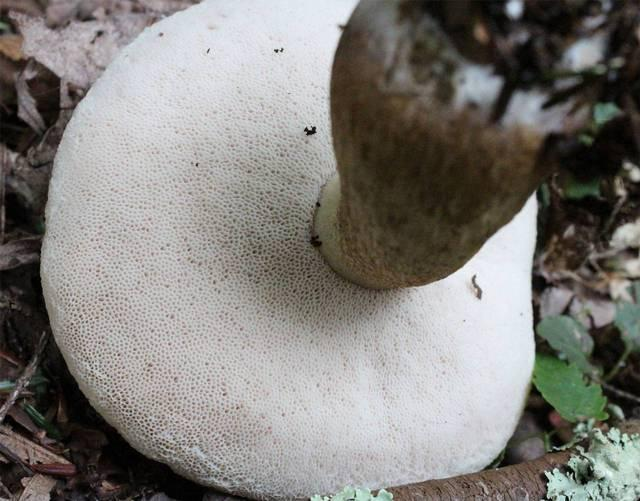poisonous_mushroom: (43, 0, 630, 501)
